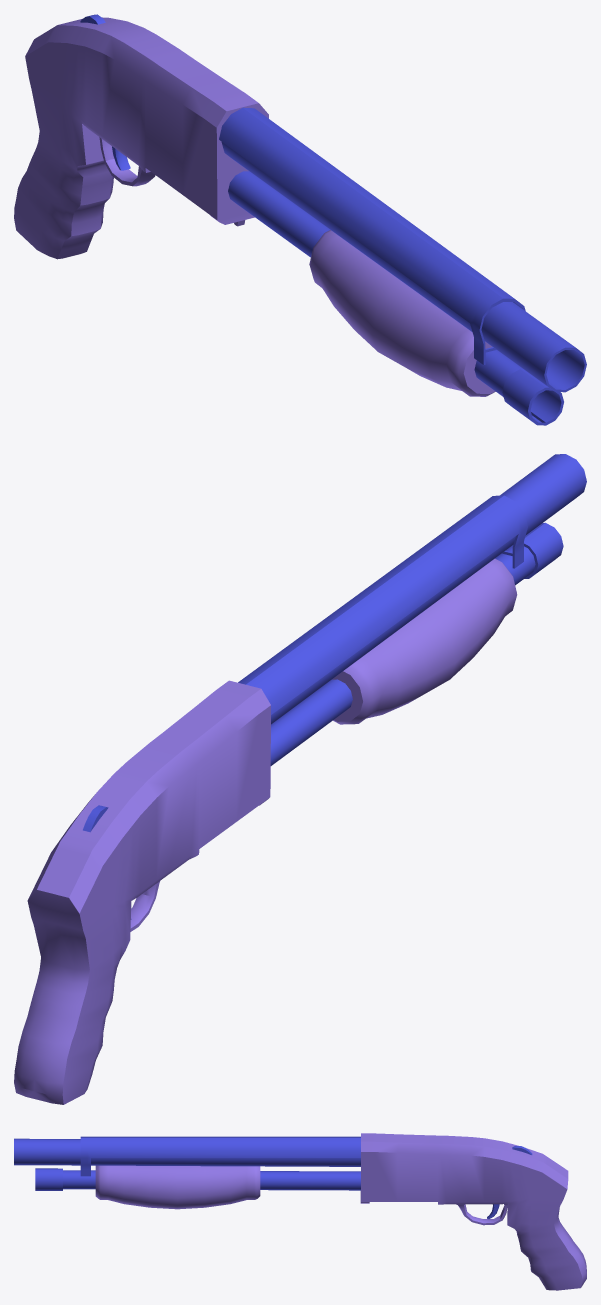
Rendered from shotgun game.fbx.
3 renders of one model, top to bottom at view 1: azimuth 30°, elevation 25°; view 2: azimuth 150°, elevation 25°; view 3: azimuth 270°, elevation 25°, orthographic. The views are drawn at different scales.
Parts seen in each view (by area): view 1: mesh.002, mesh, mesh.004, mesh.003; view 2: mesh.002, mesh, mesh.004; view 3: mesh.002, mesh, mesh.004, mesh.003.
Part boxes in pixels (left/top/right/bottom): mesh.002: left=14, top=17, right=268, bottom=259; mesh: left=80, top=14, right=586, bottom=425; mesh.004: left=309, top=230, right=495, bottom=396; mesh.003: left=99, top=137, right=155, bottom=186; mesh.002: left=14, top=680, right=270, bottom=1104; mesh: left=83, top=454, right=586, bottom=832; mesh.004: left=332, top=558, right=517, bottom=724; mesh.002: left=360, top=1133, right=586, bottom=1290; mesh: left=14, top=1136, right=532, bottom=1190; mesh.004: left=95, top=1165, right=260, bottom=1209; mesh.003: left=456, top=1204, right=507, bottom=1225.
Bounding box in the file's own units: 113 × 355 × 1244.
